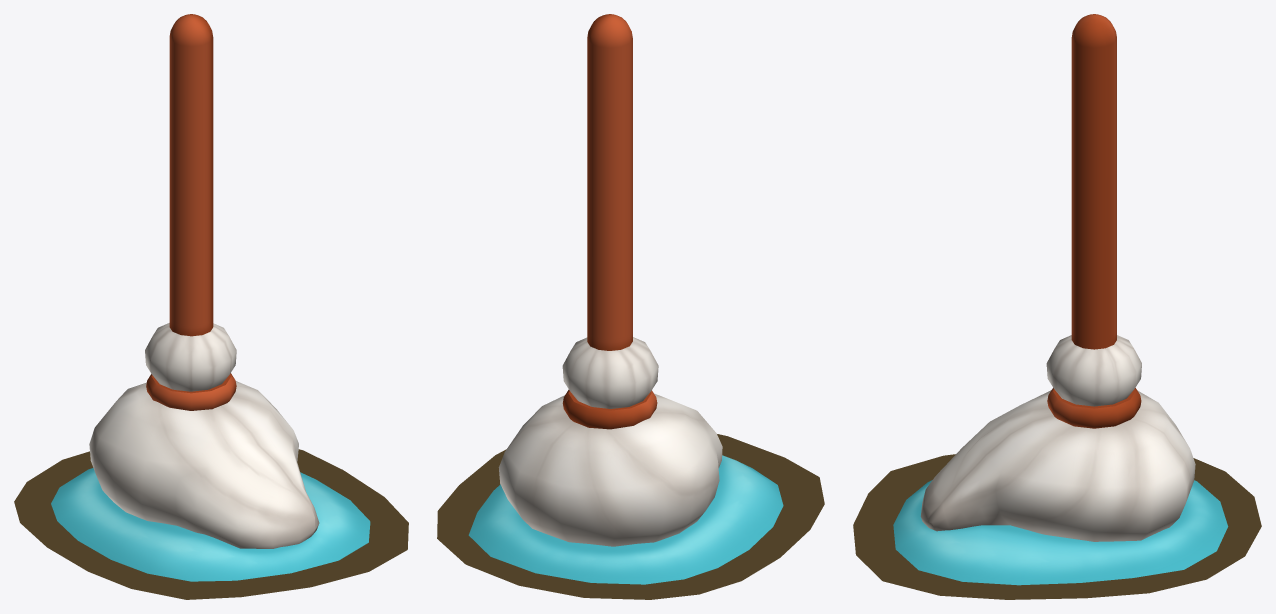
The model's file is Mu_Mops.fbx.
The picture shows the model from 3 angles, left to right: view 1: azimuth 30°, elevation 25°; view 2: azimuth 150°, elevation 25°; view 3: azimuth 270°, elevation 25°; orthographic projection. The views are drawn at different scales.
Parts seen in each view (by area): view 1: Mu_Mops_a, Mu_Mops_b, Mu_Mops_shadow; view 2: Mu_Mops_a, Mu_Mops_b, Mu_Mops_shadow; view 3: Mu_Mops_a, Mu_Mops_b, Mu_Mops_shadow.
Part boxes in pixels (x1,y1,x2,y2): Mu_Mops_a: (89,14,319,548); Mu_Mops_b: (51,468,370,581); Mu_Mops_shadow: (14,449,408,599); Mu_Mops_a: (498,14,722,546); Mu_Mops_b: (468,455,783,584); Mu_Mops_shadow: (437,434,824,599); Mu_Mops_a: (920,14,1195,541); Mu_Mops_b: (893,480,1228,585); Mu_Mops_shadow: (853,454,1261,599).
Bounding box in the file's own units: 98.89 × 152 × 110.
2 materials, 1 textured.
